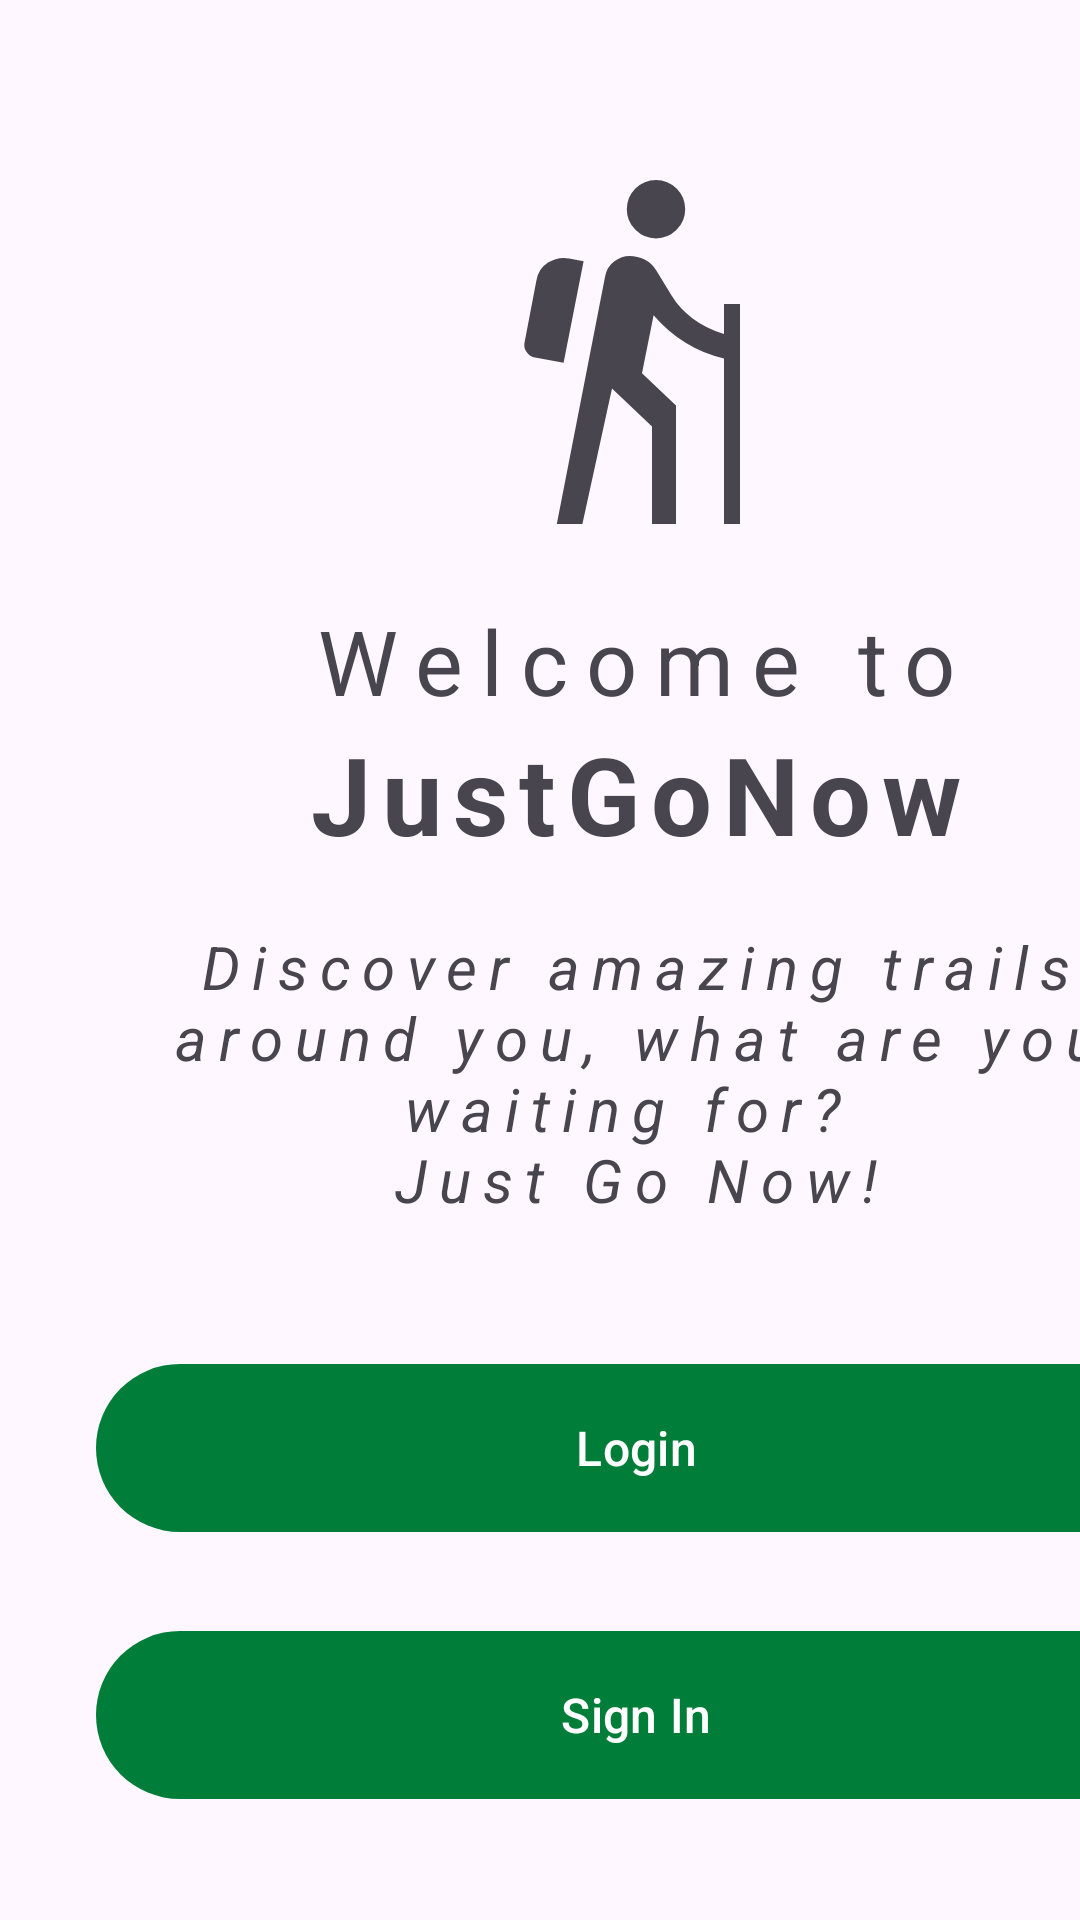

Point at icon controls on the screen. Image size 1080w x 1920h, points as (x=x, y=y).
hiking: (x=632, y=352)
